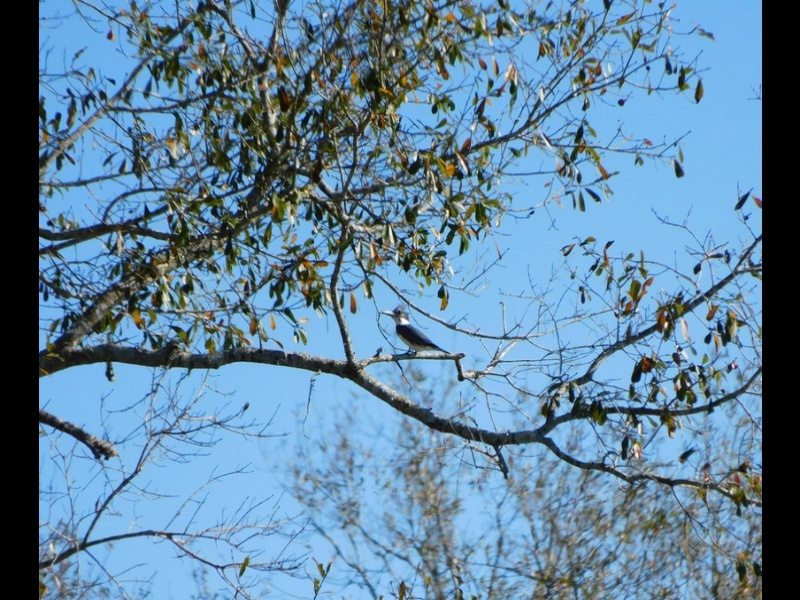kingfisher: (379, 304, 449, 357)
